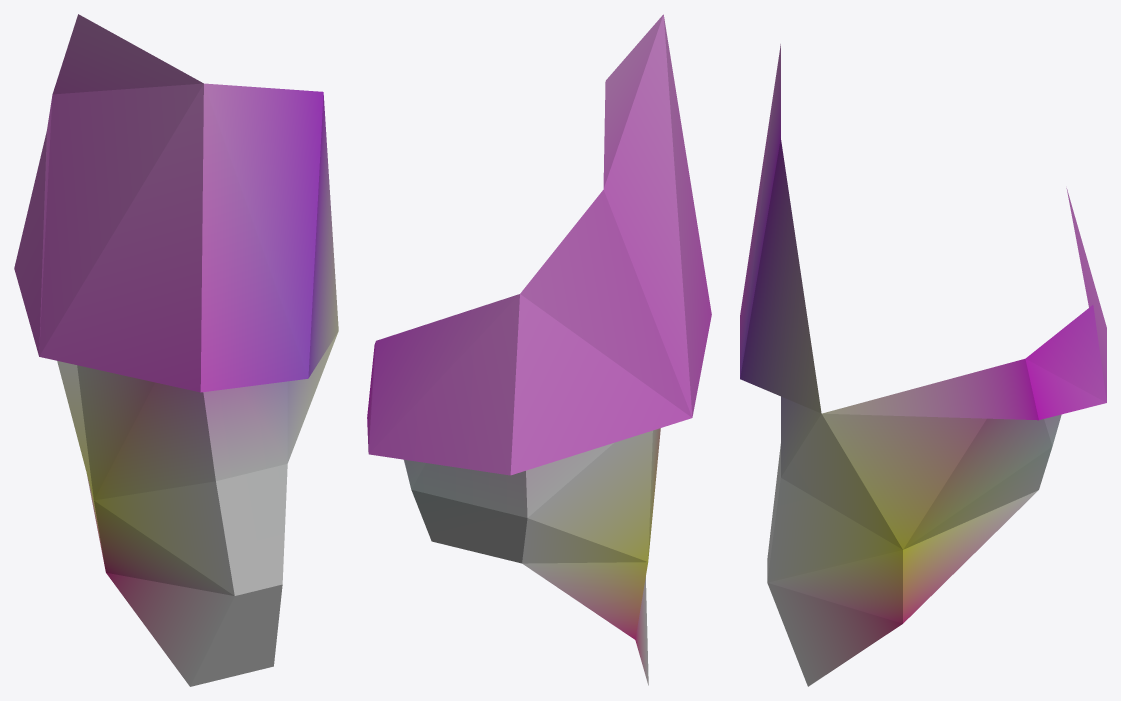
The picture shows the model from 3 angles, left to right: view 1: azimuth 30°, elevation 25°; view 2: azimuth 150°, elevation 25°; view 3: azimuth 270°, elevation 25°; orthographic projection. The views are drawn at different scales.
Visible parts, largest first — view 1: model_12BA; view 2: model_12BA; view 3: model_12BA.
Part boxes in pixels (x1,y1,x2,y2): model_12BA: (14,14,338,686); model_12BA: (367,14,711,685); model_12BA: (740,44,1106,686).
Size of the model in its own units: 21 by 50 by 27.
